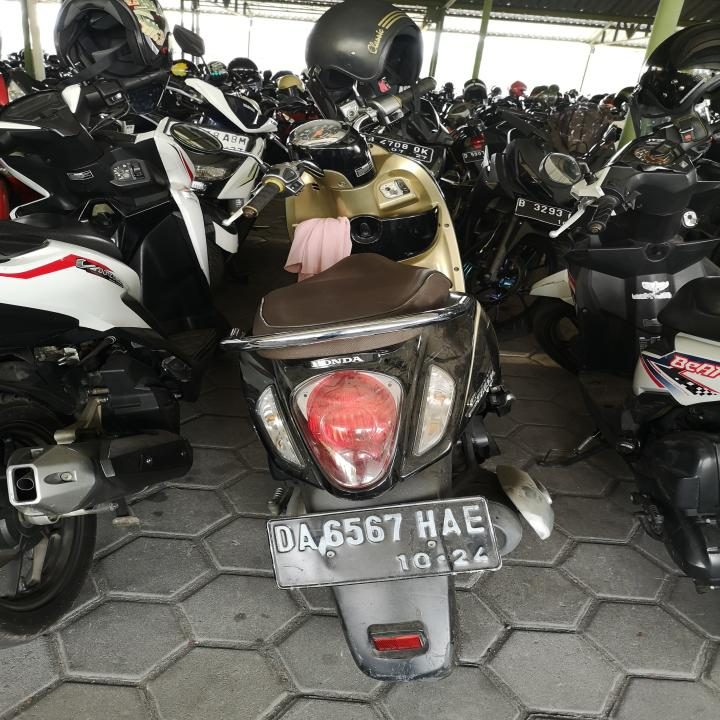plate: (264, 492, 507, 590), (513, 197, 575, 230), (367, 133, 434, 162)
